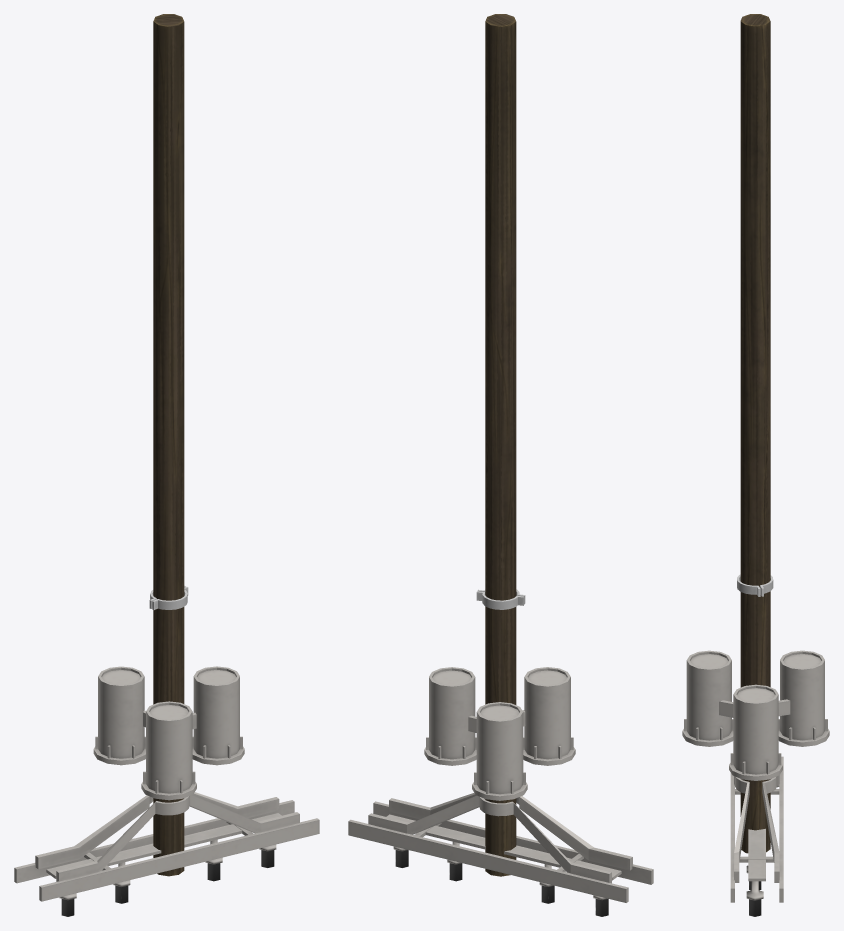
File: anime-utility-pole-01.glb
The picture shows the model from 3 angles, left to right: view 1: azimuth 30°, elevation 25°; view 2: azimuth 150°, elevation 25°; view 3: azimuth 270°, elevation 25°; orthographic projection. The views are drawn at different scales.
Visible parts, largest first — view 1: anime-utility-pole-01; view 2: anime-utility-pole-01; view 3: anime-utility-pole-01.
Boxes of the visible parts, bbox=[...] form: anime-utility-pole-01: bbox=[14, 14, 319, 916]; anime-utility-pole-01: bbox=[348, 14, 653, 916]; anime-utility-pole-01: bbox=[682, 14, 829, 916].
Bounding box in the file's own units: 1.63 × 4.87 × 0.7686.
Materials: 2 (2 with a texture image).
